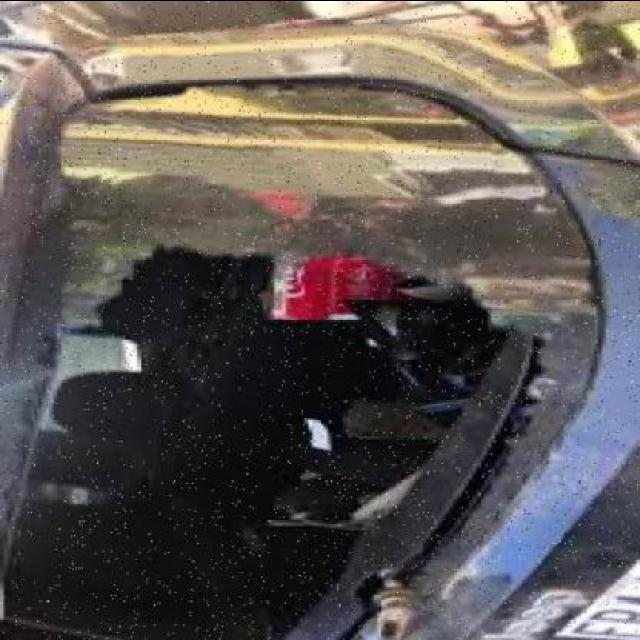Rear-windscreen-Damage: (7, 68, 617, 640)
